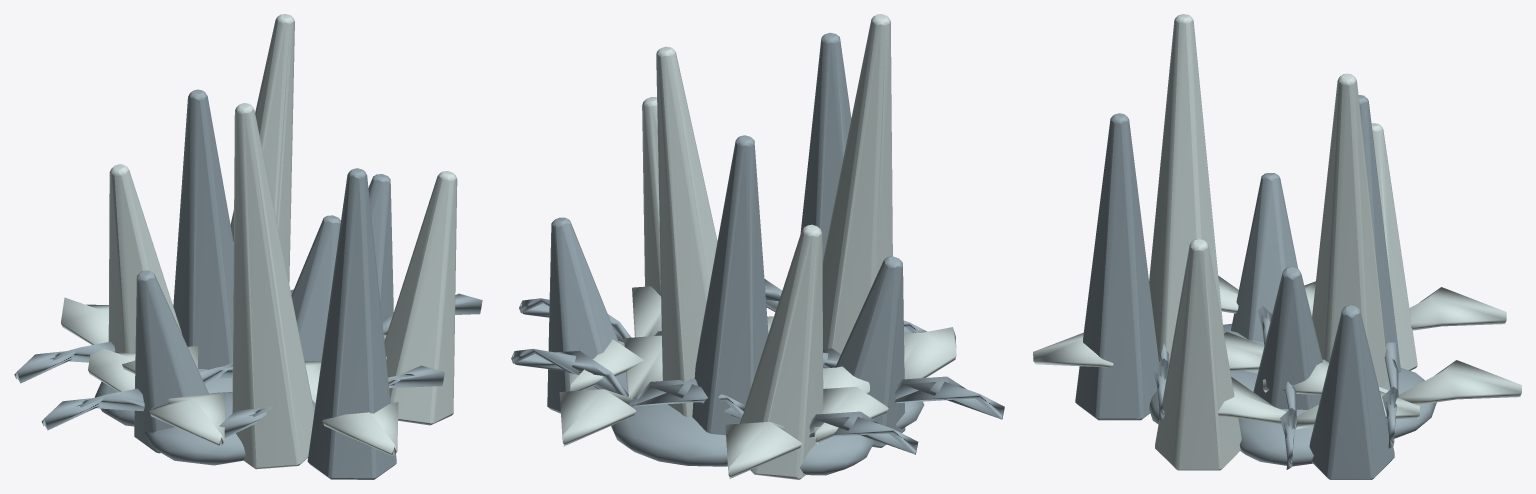
File: bio_crystal_fan_05_far.glb
3 views of the same model, side by side, from view 1: azimuth 30°, elevation 25°; view 2: azimuth 150°, elevation 25°; view 3: azimuth 270°, elevation 25° (orthographic). The views are drawn at different scales.
Parts seen in each view (by area): view 1: Reflecting mineral prism.007, Reflecting mineral prism.002, Reflecting mineral prism.006, Reflecting mineral prism.005, Reflecting mineral prism.004, Reflecting mineral prism.001, Reflecting mineral prism.003, Reflecting mineral prism, Low buttress leaf.017, Mineral substrate, Low buttress leaf.009, Reflecting mineral prism.008 (+5 smaller); view 2: Reflecting mineral prism.007, Reflecting mineral prism.003, Reflecting mineral prism.006, Reflecting mineral prism.001, Mineral substrate, Reflecting mineral prism.008, Reflecting mineral prism.004, Reflecting mineral prism.002, Low buttress leaf.013, Low buttress leaf.017, Low buttress leaf.012, Low buttress leaf.005 (+6 smaller); view 3: Reflecting mineral prism.002, Reflecting mineral prism.007, Reflecting mineral prism.003, Reflecting mineral prism.005, Reflecting mineral prism.008, Reflecting mineral prism.004, Reflecting mineral prism, Mineral substrate, Low buttress leaf.013, Reflecting mineral prism.001, Reflecting mineral prism.006, Low buttress leaf.005 (+6 smaller).
Boxes of the visible parts, bbox=[...] form: Reflecting mineral prism.007: bbox=[232, 103, 313, 469]; Reflecting mineral prism.002: bbox=[307, 168, 396, 479]; Reflecting mineral prism.006: bbox=[173, 89, 233, 369]; Reflecting mineral prism.005: bbox=[384, 171, 457, 425]; Reflecting mineral prism.004: bbox=[134, 270, 208, 453]; Reflecting mineral prism.001: bbox=[108, 164, 181, 352]; Reflecting mineral prism.003: bbox=[230, 14, 294, 325]; Reflecting mineral prism: bbox=[291, 215, 340, 361]; Low buttress leaf.017: bbox=[88, 344, 225, 446]; Mineral substrate: bbox=[94, 369, 245, 465]; Low buttress leaf.009: bbox=[304, 361, 398, 455]; Reflecting mineral prism.008: bbox=[368, 174, 393, 320]; Reflecting mineral prism.007: bbox=[822, 14, 892, 353]; Reflecting mineral prism.003: bbox=[656, 46, 717, 416]; Reflecting mineral prism.006: bbox=[692, 135, 768, 435]; Reflecting mineral prism.001: bbox=[739, 224, 823, 479]; Mineral substrate: bbox=[611, 401, 924, 475]; Reflecting mineral prism.008: bbox=[547, 217, 627, 413]; Reflecting mineral prism.004: bbox=[835, 256, 905, 447]; Reflecting mineral prism.002: bbox=[800, 32, 851, 260]; Low buttress leaf.013: bbox=[559, 335, 662, 446]; Low buttress leaf.017: bbox=[814, 327, 956, 444]; Low buttress leaf.012: bbox=[511, 349, 745, 418]; Low buttress leaf.005: bbox=[725, 366, 869, 478]; Reflecting mineral prism.002: bbox=[1075, 113, 1158, 420]; Reflecting mineral prism.007: bbox=[1149, 14, 1223, 364]; Reflecting mineral prism.003: bbox=[1312, 73, 1388, 387]; Reflecting mineral prism.005: bbox=[1155, 239, 1241, 470]; Reflecting mineral prism.008: bbox=[1309, 305, 1394, 479]; Reflecting mineral prism.004: bbox=[1231, 173, 1297, 342]; Reflecting mineral prism: bbox=[1253, 267, 1322, 409]; Mineral substrate: bbox=[1149, 323, 1436, 466]; Low buttress leaf.013: bbox=[1262, 359, 1521, 405]; Reflecting mineral prism.001: bbox=[1371, 123, 1417, 370]; Reflecting mineral prism.006: bbox=[1358, 95, 1400, 372]; Low buttress leaf.005: bbox=[1304, 281, 1506, 330].
Bounding box in the file's own units: 2.22 × 1.73 × 2.09.
